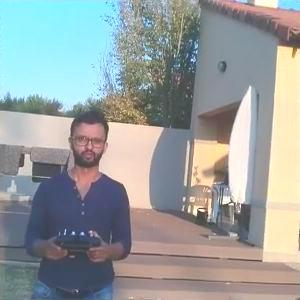follow: (20, 101, 136, 298)
